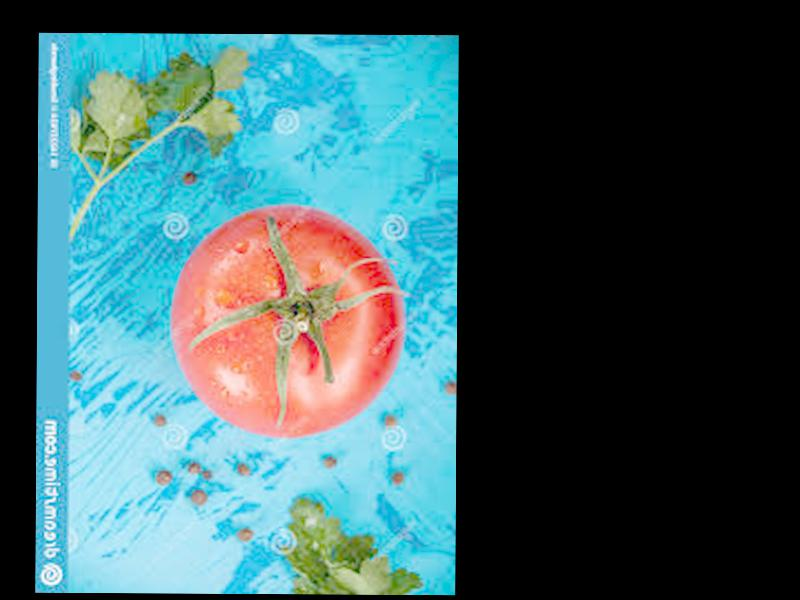Tomato: (170, 204, 404, 438)
